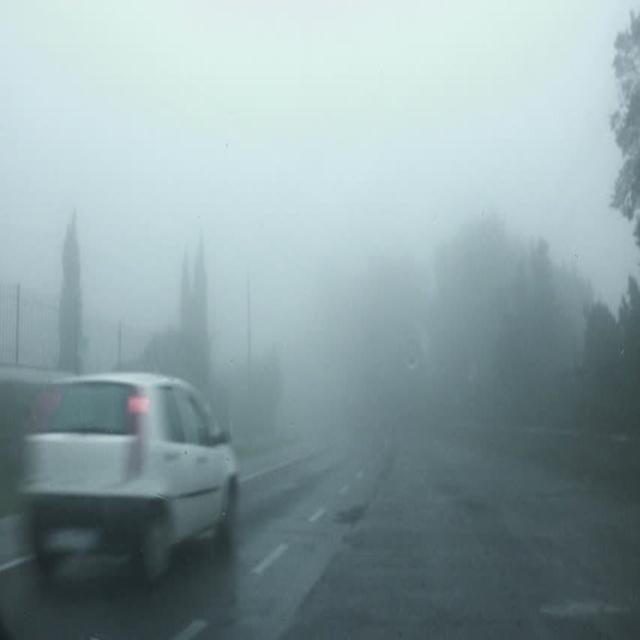car: (12, 370, 240, 592)
